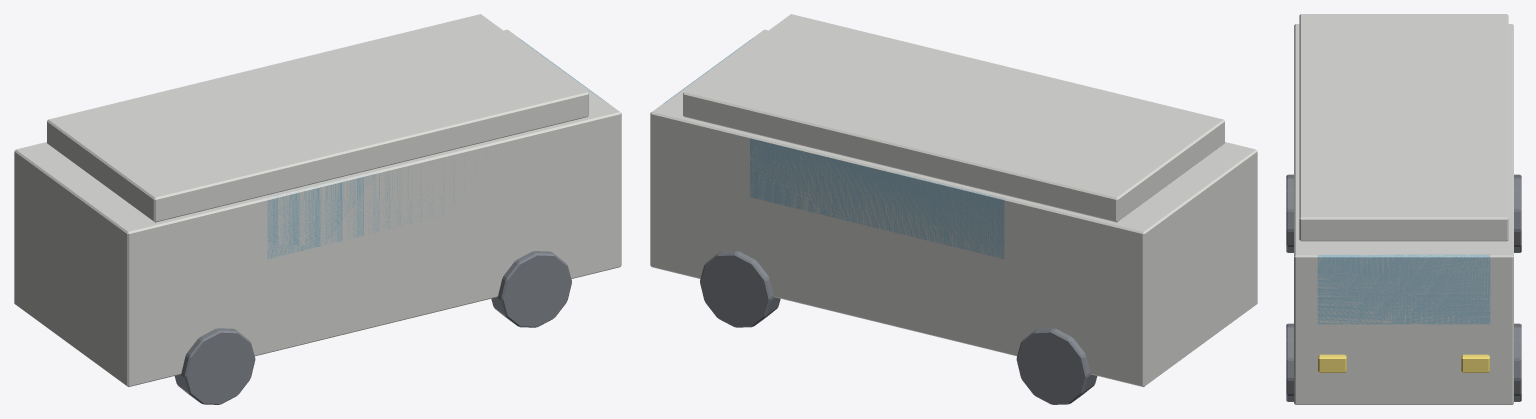
File: 车_面包车_01.fbx
3 views of the same model, side by side, from view 1: azimuth 30°, elevation 25°; view 2: azimuth 150°, elevation 25°; view 3: azimuth 270°, elevation 25° (orthographic). The views are drawn at different scales.
Parts seen in each view (by area): view 1: 车身.006, 车顶.006, 车轮.008, 车窗.005; view 2: 车身.006, 车顶.006, 车窗.005, 车轮.008; view 3: 车顶.006, 车身.006, 车窗.005, 车轮.008, 车灯.006.
Boxes of the visible parts, box(x1,y1,x2,y2) form: 车身.006: box(14, 29, 621, 386); 车顶.006: box(47, 14, 588, 222); 车轮.008: box(174, 251, 571, 404); 车窗.005: box(267, 38, 608, 258); 车身.006: box(650, 29, 1257, 386); 车顶.006: box(683, 14, 1224, 222); 车窗.005: box(663, 38, 1004, 258); 车轮.008: box(700, 251, 1097, 404); 车顶.006: box(1299, 14, 1508, 241); 车身.006: box(1294, 24, 1513, 404); 车窗.005: box(1317, 254, 1490, 324); 车轮.008: box(1286, 174, 1521, 401); 车灯.006: box(1318, 354, 1489, 372).
Bounding box in the file's own units: 506 × 209 × 214.
